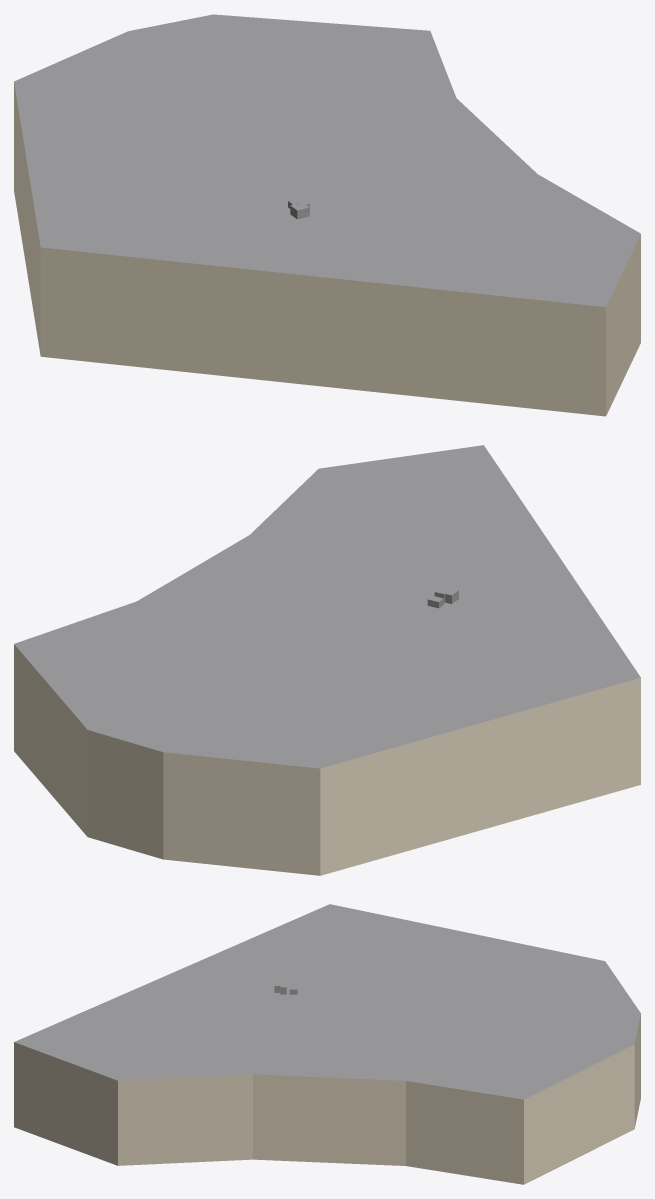
Rendered from building_-6_6.glb.
3 views of the same model, one above another, from view 1: azimuth 30°, elevation 25°; view 2: azimuth 150°, elevation 25°; view 3: azimuth 270°, elevation 25° (orthographic). The views are drawn at different scales.
Visible parts, largest first — view 1: roof, sandstone; view 2: roof, sandstone; view 3: roof, sandstone.
Boxes of the visible parts, left/top/right/bottom form: roof: left=14, top=14, right=640, bottom=307; sandstone: left=14, top=83, right=640, bottom=416; roof: left=14, top=445, right=640, bottom=768; sandstone: left=14, top=644, right=640, bottom=875; roof: left=14, top=904, right=640, bottom=1099; sandstone: left=14, top=1014, right=640, bottom=1184.
Bounding box in the file's own units: 98.46 × 21.66 × 133.
